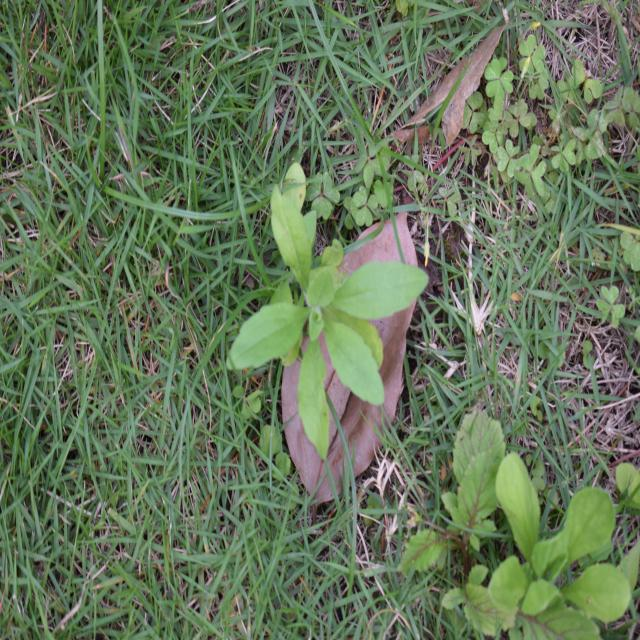horseweed: (234, 206, 419, 433)
